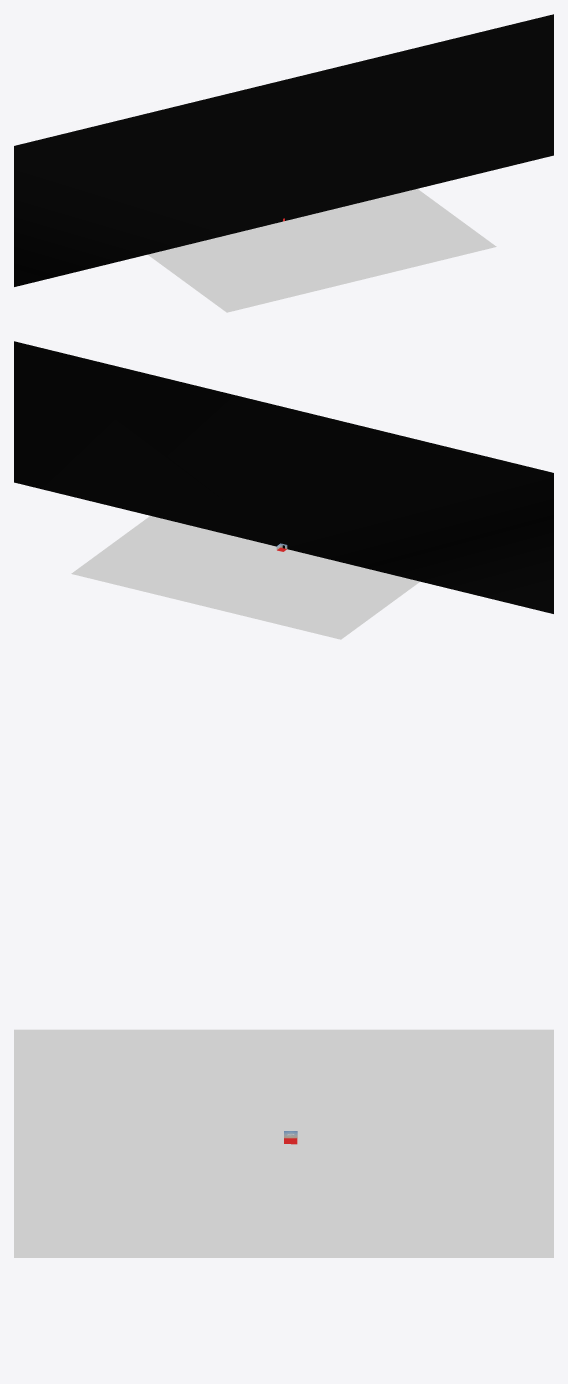
File: insideout.glb
3 renders of one model, top to bottom at view 1: azimuth 30°, elevation 25°; view 2: azimuth 150°, elevation 25°; view 3: azimuth 270°, elevation 25°, orthographic. The views are drawn at different scales.
Visible parts, largest first — view 1: clip, showIn, hideIn; view 2: clip, hideIn, showIn; view 3: hideIn, showIn.
Boxes of the visible parts, x1,y1,x2,y2 form: clip: [14, 14, 553, 286]; showIn: [149, 190, 496, 312]; hideIn: [148, 189, 418, 255]; clip: [14, 341, 553, 613]; hideIn: [71, 517, 418, 639]; showIn: [149, 516, 419, 582]; hideIn: [283, 1029, 553, 1257]; showIn: [14, 1029, 283, 1257].
Bounding box in the file's own units: 400 × 101 × 200.
5 materials, 1 textured.
